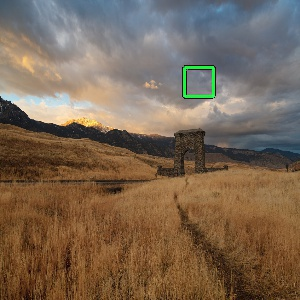square: (181, 64, 217, 100)
